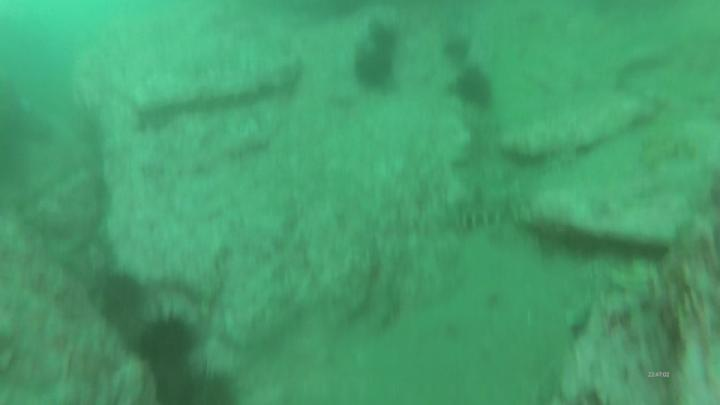echinus: (135, 306, 200, 375), (94, 269, 151, 328), (166, 366, 238, 405), (350, 42, 398, 93), (453, 69, 496, 111), (367, 23, 400, 54), (442, 37, 472, 64)
holothurian: (635, 133, 695, 173), (448, 198, 515, 232)
